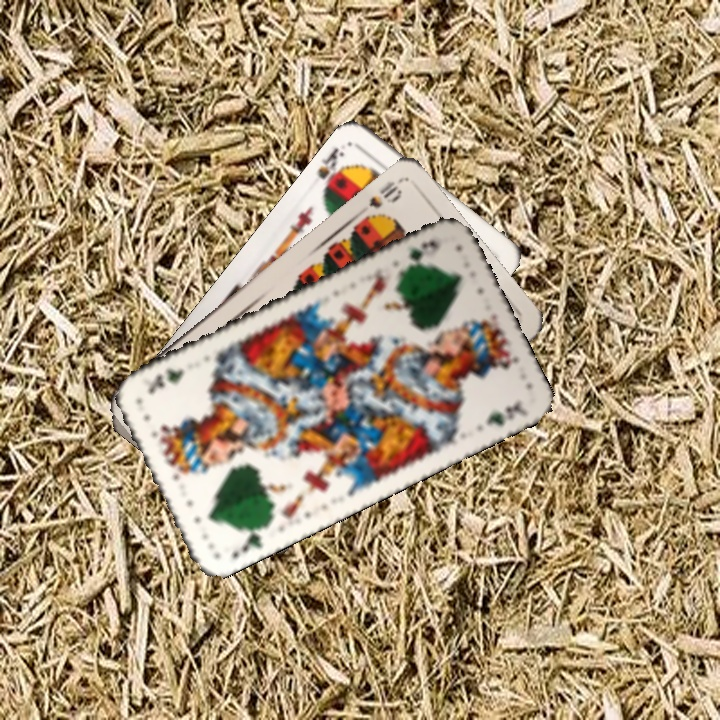GK: (397, 236, 443, 273), (227, 523, 268, 562)
S10: (364, 176, 405, 211)
SK: (313, 143, 350, 193)
